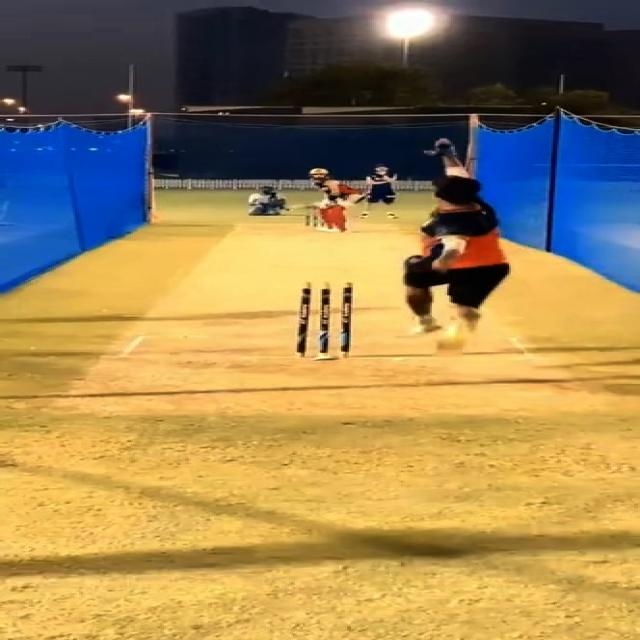batsman: (285, 167, 366, 233)
